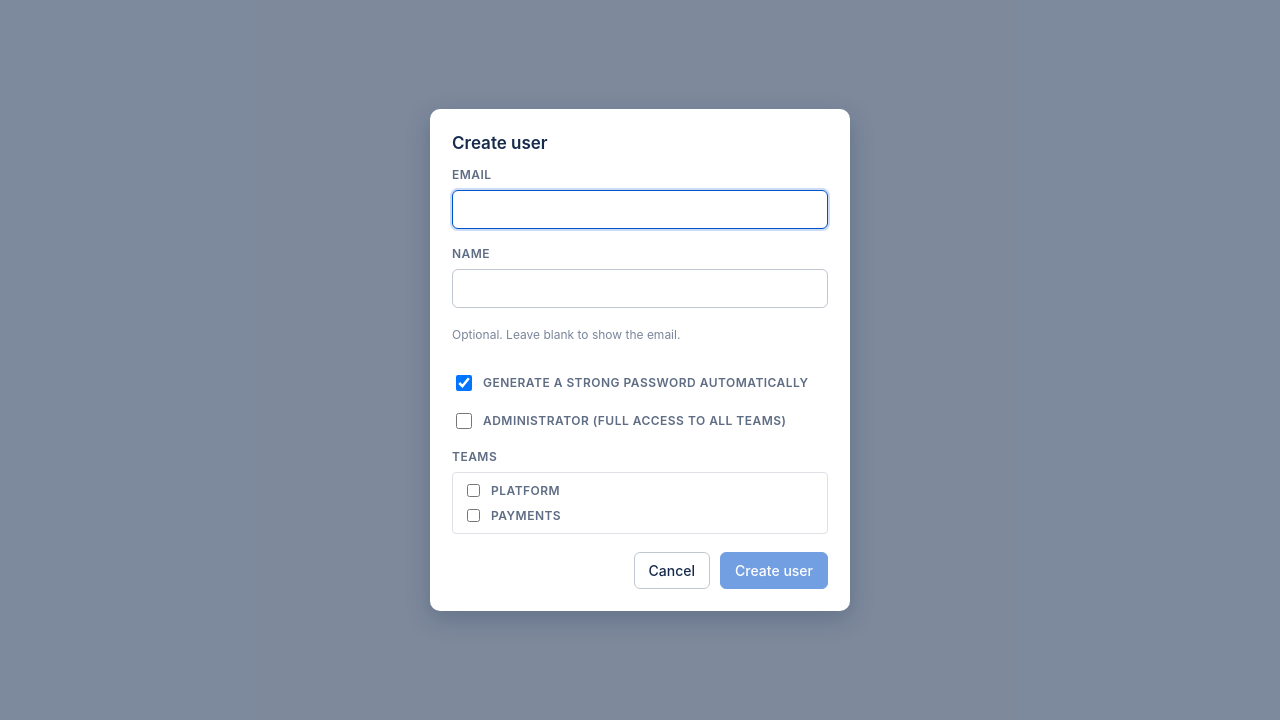
it: CreateUserDialog › surfaces a server validation_error as an inline field-error banner
Type "x@dataart.com" into the field labelled "Email" at x=640, y=210, box [452, 190, 828, 229]
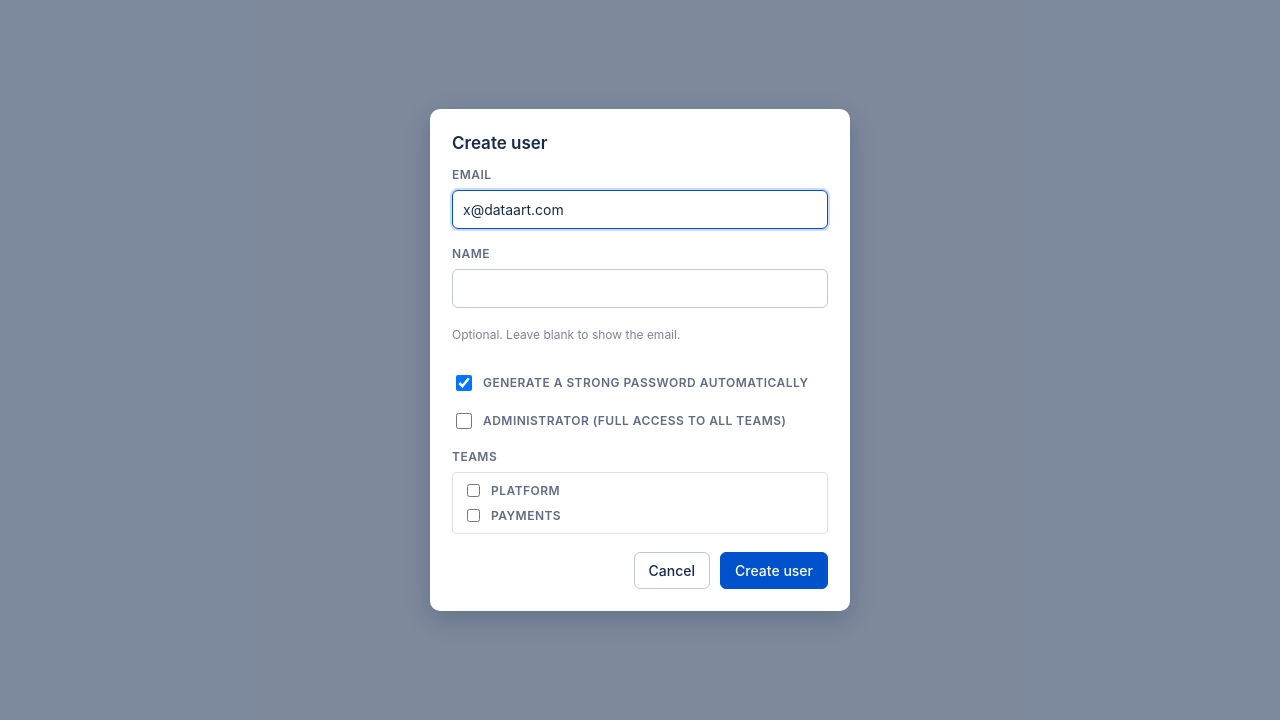
Click the button "Create user" at x=774, y=571, box [720, 552, 828, 589]
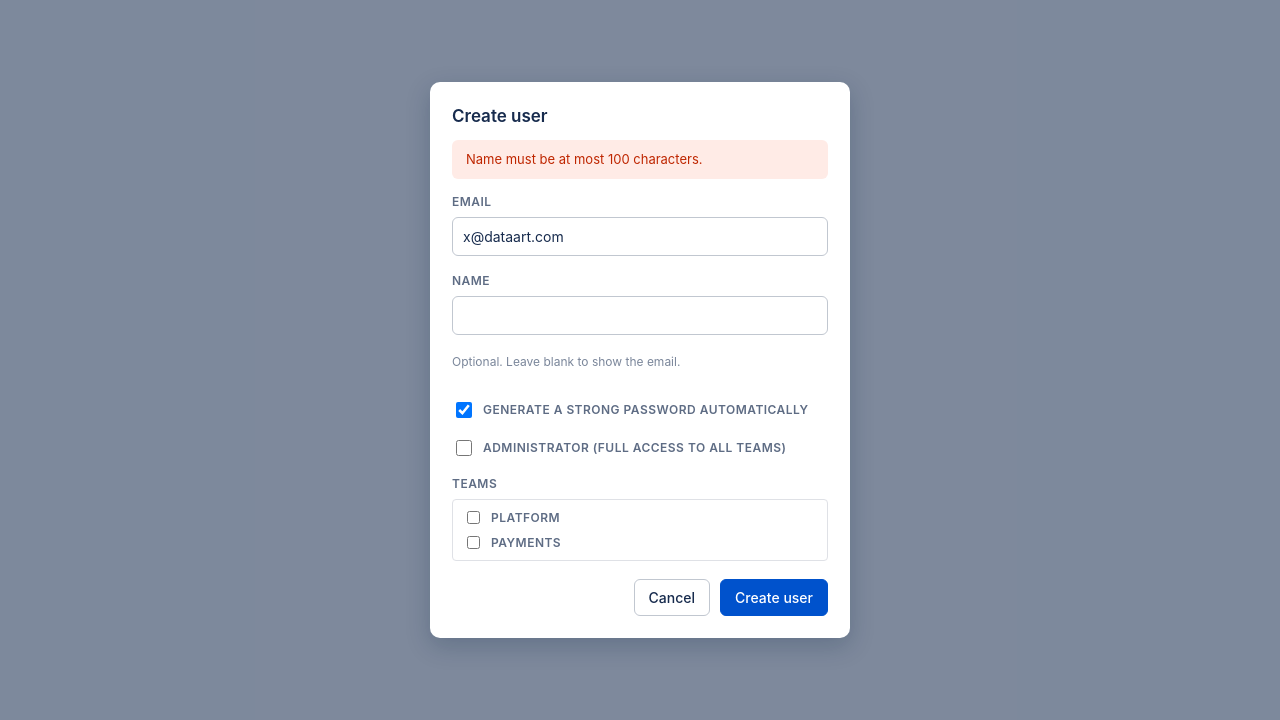
Result: the text "Name must be at most 100 characters." is shown at [452, 140, 828, 179]
